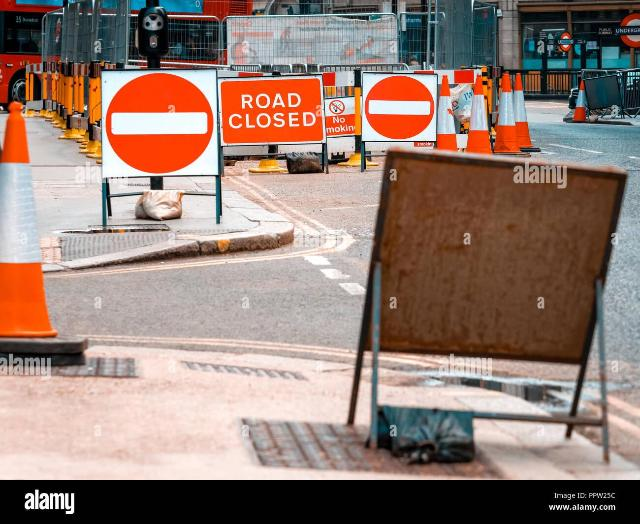B2: (100, 68, 218, 178), (360, 70, 438, 150)
